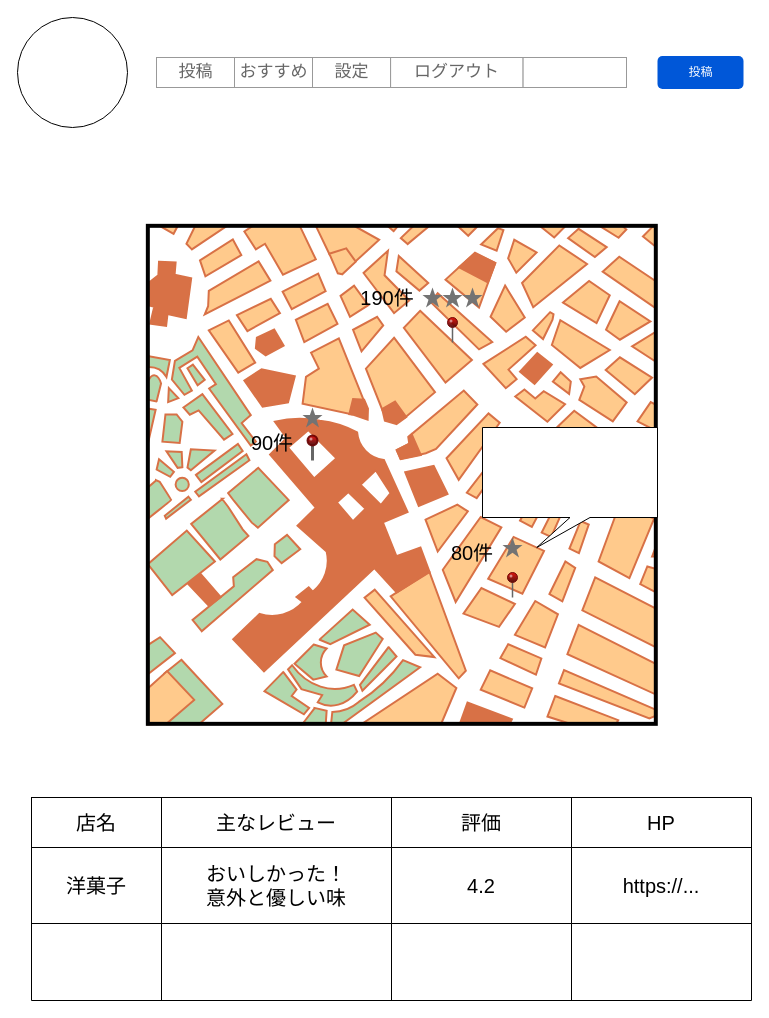
Image size: 769x1018. Some labels were removed from this diagram. The centre of each missing label's shape, as x and y in pixels:
Snacy: point (72, 72)
あなたへの おすすめ: point (570, 487)
アカウント: point (574, 72)
